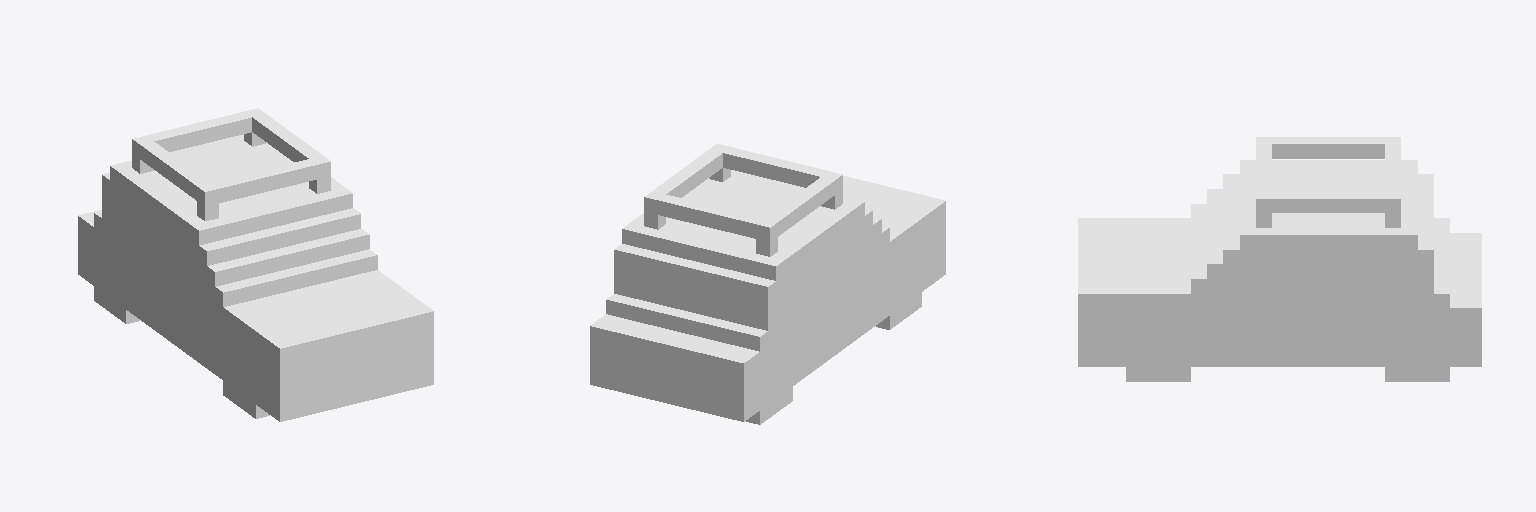
The model's file is Car4.obj.
The picture shows the model from 3 angles: view 1: azimuth 30°, elevation 25°; view 2: azimuth 150°, elevation 25°; view 3: azimuth 270°, elevation 25°; orthographic projection.
Size of the model in its own units: 11 by 12 by 25.